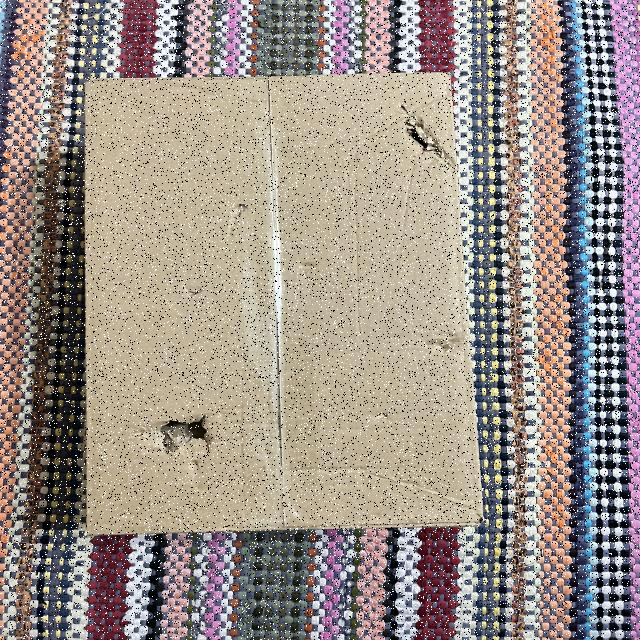damaged: (68, 68, 494, 543), (122, 408, 242, 466), (383, 96, 462, 176), (408, 324, 471, 360)
